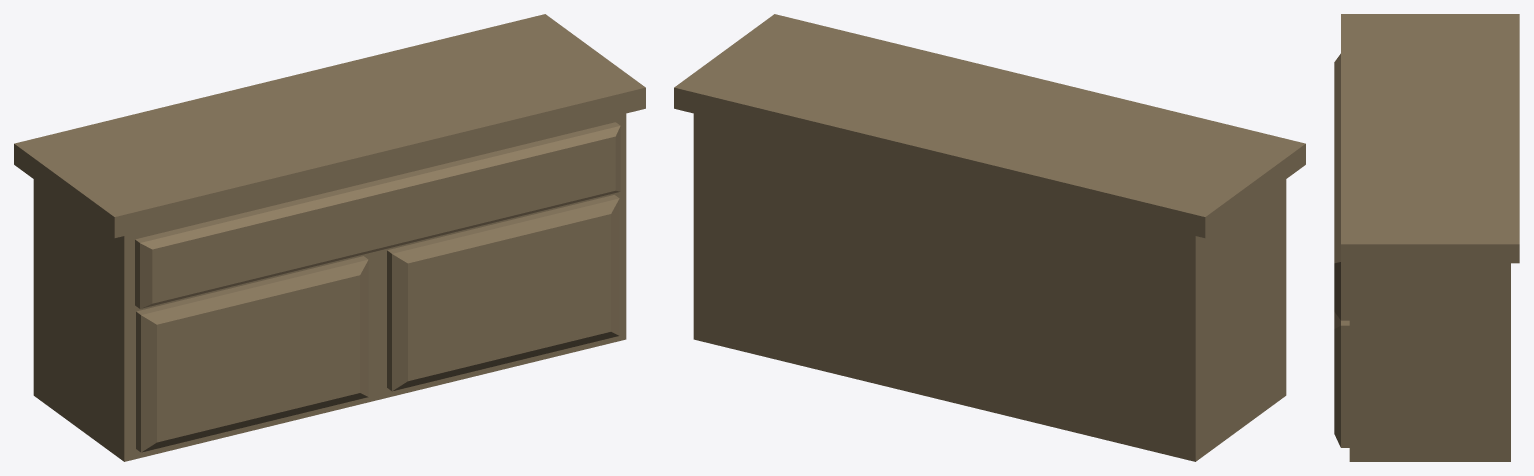
The model's file is msh_buffet.fbx.
3 renders of one model, left to right at view 1: azimuth 30°, elevation 25°; view 2: azimuth 150°, elevation 25°; view 3: azimuth 270°, elevation 25°, orthographic. The views are drawn at different scales.
Visible parts, largest first — view 1: msh_buffet; view 2: msh_buffet; view 3: msh_buffet.
Boxes of the visible parts, left/top/right/bottom form: msh_buffet: left=14, top=14, right=645, bottom=461; msh_buffet: left=674, top=14, right=1305, bottom=461; msh_buffet: left=1334, top=14, right=1519, bottom=461.
Bounding box in the file's own units: 234 × 106 × 79.61.
